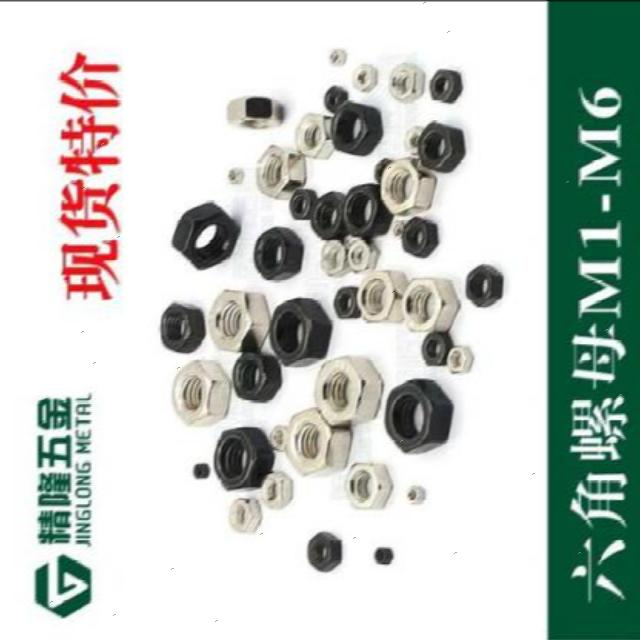Nut: (382, 376, 454, 456), (283, 406, 353, 478), (314, 353, 384, 425), (170, 201, 240, 272), (268, 296, 334, 368), (205, 286, 273, 352), (211, 424, 276, 492), (169, 358, 232, 427), (378, 156, 438, 216), (402, 274, 460, 334), (354, 267, 412, 324), (253, 143, 306, 201), (329, 100, 384, 154), (252, 225, 304, 282), (341, 182, 393, 238), (230, 349, 282, 403), (157, 300, 206, 354), (342, 460, 393, 510), (418, 120, 467, 172), (224, 93, 284, 131), (292, 110, 336, 160), (310, 190, 350, 240), (464, 262, 504, 308), (402, 214, 439, 256), (387, 61, 425, 101), (306, 530, 342, 572), (228, 496, 262, 534), (419, 332, 454, 368), (318, 238, 350, 277), (428, 67, 462, 103), (347, 235, 380, 272), (260, 470, 292, 508), (333, 284, 363, 320), (288, 186, 318, 220), (445, 342, 475, 374), (351, 61, 378, 91), (324, 83, 349, 112), (402, 124, 424, 154), (267, 424, 288, 452), (373, 156, 391, 183), (404, 484, 426, 504), (326, 46, 346, 66), (374, 544, 393, 564), (390, 220, 406, 240), (191, 462, 211, 478), (226, 166, 243, 183)
